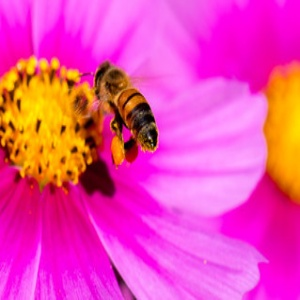bee: (79, 58, 162, 180)
